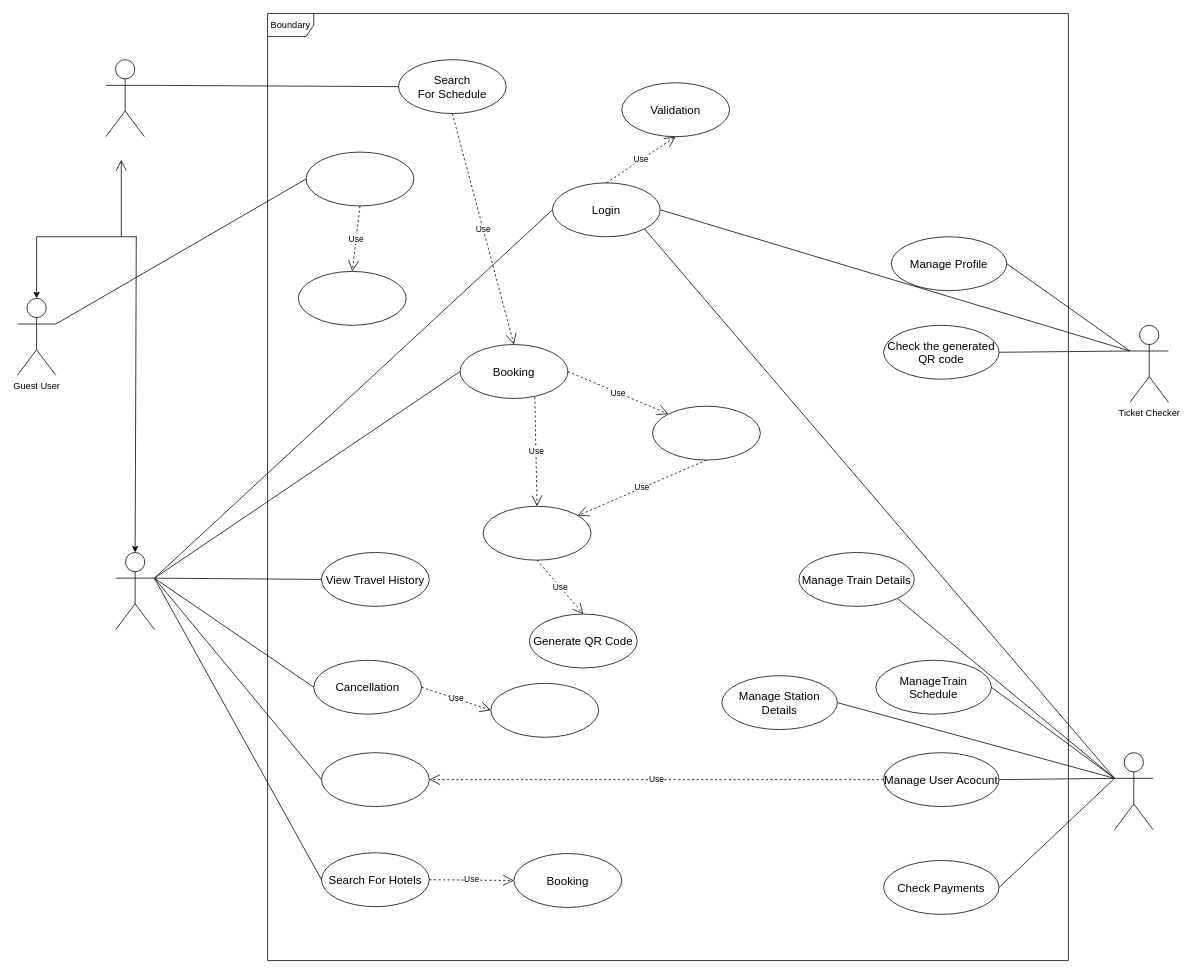
This 1194x974 diagram has some shape labels left out. The shapes that lost their labels are listed below. From the top down, each one's centre as x and y in pixels, then its label:
At pixel 124 98: "User".
At pixel 359 178: "Create an account".
At pixel 352 298: "Validate registration details".
At pixel 706 432: "Food Ordering".
At pixel 536 533: "Make Payment".
At pixel 134 590: "Registered User".
At pixel 544 710: "Confirmation".
At pixel 375 779: "View Profile".
At pixel 1133 791: "Admin".
